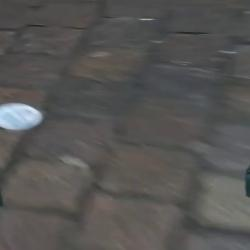Restaffald: (0, 103, 44, 131)
